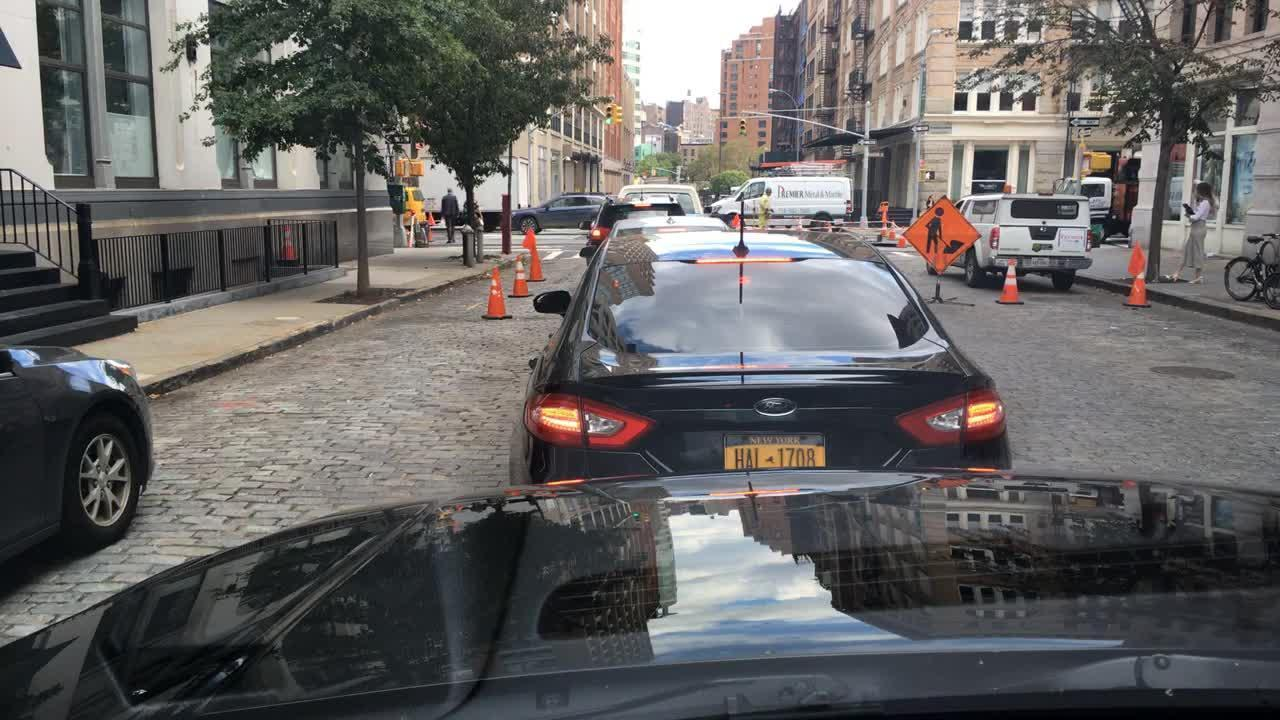ford: (749, 390, 804, 426)
